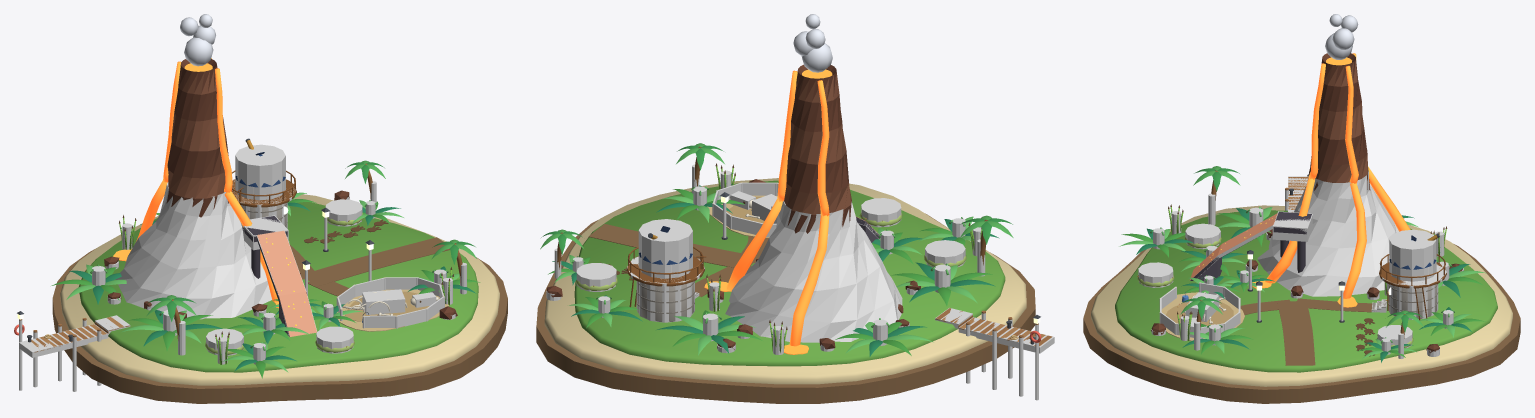
The model's file is vale-dos-dinos.glb.
The picture shows the model from 3 angles, left to right: view 1: azimuth 30°, elevation 25°; view 2: azimuth 150°, elevation 25°; view 3: azimuth 270°, elevation 25°; orthographic projection. The views are drawn at different scales.
Visible parts, largest first — view 1: chao, cenario, col-terreno, vulcao, cinza-quente, lava, col-cil-cupula-1, porto, col-cais-deque-1, col-costelas-1, col-cil-ninho-3, col-cil-ninho-2 (+2 smaller); view 2: chao, cenario, col-terreno, vulcao, lava, col-cil-cupula-1, porto, col-cil-observatorio-1, col-cais-deque-1, col-cil-ninho-2, col-cil-ninho-3, col-cil-ninho-1; view 3: chao, cenario, col-terreno, vulcao, lava, col-cil-cupula-1, cinza-quente, col-cil-observatorio-1, col-terraco-segredo-1, col-cil-ninho-3, col-cil-ninho-1, col-cil-ninho-2 (+2 smaller).
Boxes of the visible parts, x1=… form: chao: x1=52, y1=194, x2=507, y2=403; cenario: x1=51, y1=14, x2=480, y2=378; col-terreno: x1=115, y1=182, x2=271, y2=319; vulcao: x1=104, y1=59, x2=300, y2=318; cinza-quente: x1=257, y1=230, x2=316, y2=336; lava: x1=113, y1=58, x2=278, y2=308; col-cil-cupula-1: x1=235, y1=144, x2=285, y2=200; porto: x1=14, y1=311, x2=129, y2=352; col-cais-deque-1: x1=19, y1=324, x2=108, y2=357; col-costelas-1: x1=362, y1=289, x2=405, y2=314; col-cil-ninho-3: x1=316, y1=326, x2=353, y2=353; col-cil-ninho-2: x1=325, y1=199, x2=362, y2=226; chao: x1=536, y1=178, x2=1035, y2=403; cenario: x1=540, y1=14, x2=1013, y2=356; col-terreno: x1=725, y1=201, x2=902, y2=342; vulcao: x1=707, y1=64, x2=920, y2=349; lava: x1=704, y1=69, x2=832, y2=354; col-cil-cupula-1: x1=638, y1=219, x2=692, y2=278; porto: x1=935, y1=308, x2=1052, y2=346; col-cil-observatorio-1: x1=636, y1=281, x2=694, y2=322; col-cais-deque-1: x1=958, y1=317, x2=1054, y2=353; col-cil-ninho-2: x1=576, y1=263, x2=616, y2=291; col-cil-ninho-3: x1=861, y1=198, x2=901, y2=227; col-cil-ninho-1: x1=925, y1=240, x2=965, y2=267; chao: x1=1083, y1=205, x2=1520, y2=403; cenario: x1=1119, y1=14, x2=1486, y2=365; col-terreno: x1=1257, y1=170, x2=1398, y2=296; vulcao: x1=1246, y1=53, x2=1379, y2=297; lava: x1=1252, y1=53, x2=1410, y2=307; col-cil-cupula-1: x1=1389, y1=229, x2=1436, y2=281; cinza-quente: x1=1189, y1=213, x2=1277, y2=280; col-cil-observatorio-1: x1=1387, y1=284, x2=1438, y2=319; col-terraco-segredo-1: x1=1272, y1=211, x2=1312, y2=241; col-cil-ninho-3: x1=1138, y1=262, x2=1173, y2=287; col-cil-ninho-1: x1=1185, y1=223, x2=1220, y2=249; col-cil-ninho-2: x1=1377, y1=325, x2=1412, y2=348.
Bounding box in the file's own units: 32.66 × 22.25 × 29.61.
